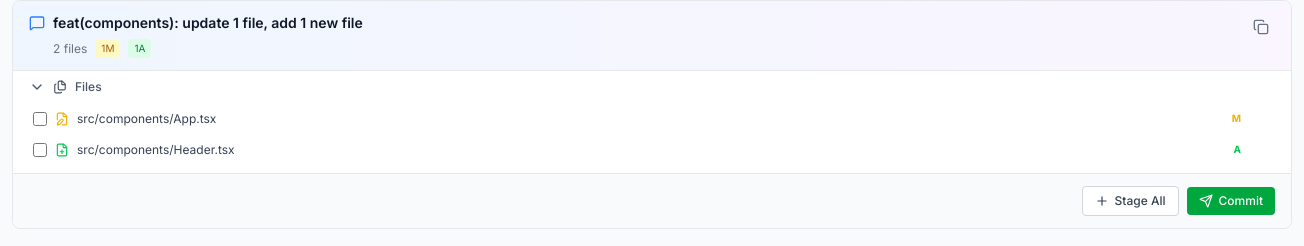
Test: FileGroupCard › toggles file list when Files section button is clicked
Expected: the text "src/components/App.tsx" is shown, [77, 110, 216, 126]
Note: Click to collapse
Click the button "Files".
click(37, 87)  # box [13, 71, 1291, 103]
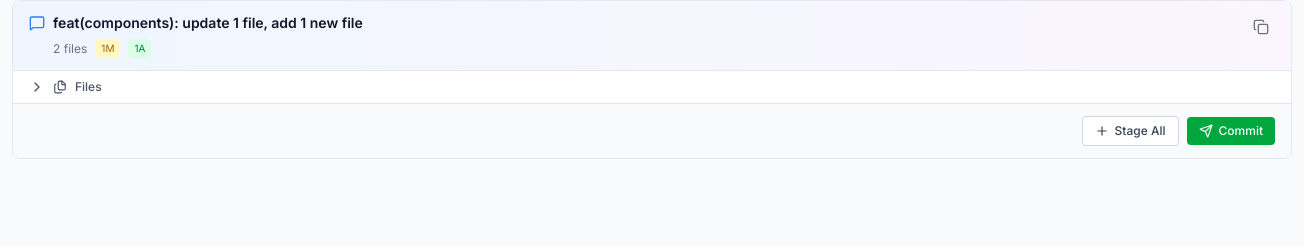
Expected: the text "src/components/App.tsx" is gone
Note: Click to expand
Click the button "Files".
click(37, 87)  # box [13, 71, 1291, 103]
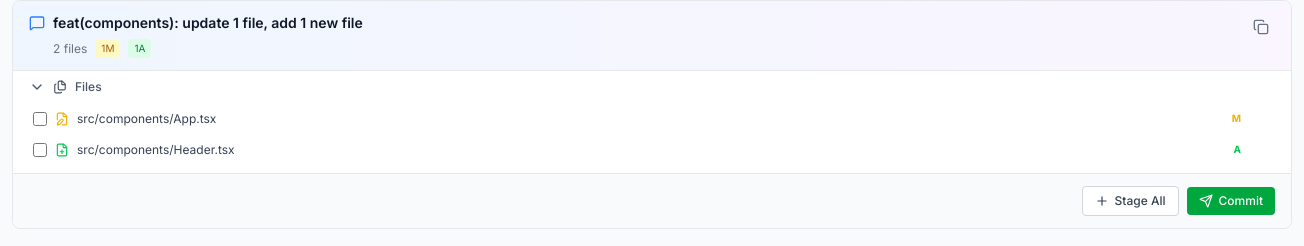
Expected: the text "src/components/App.tsx" is shown, [77, 110, 216, 126]
